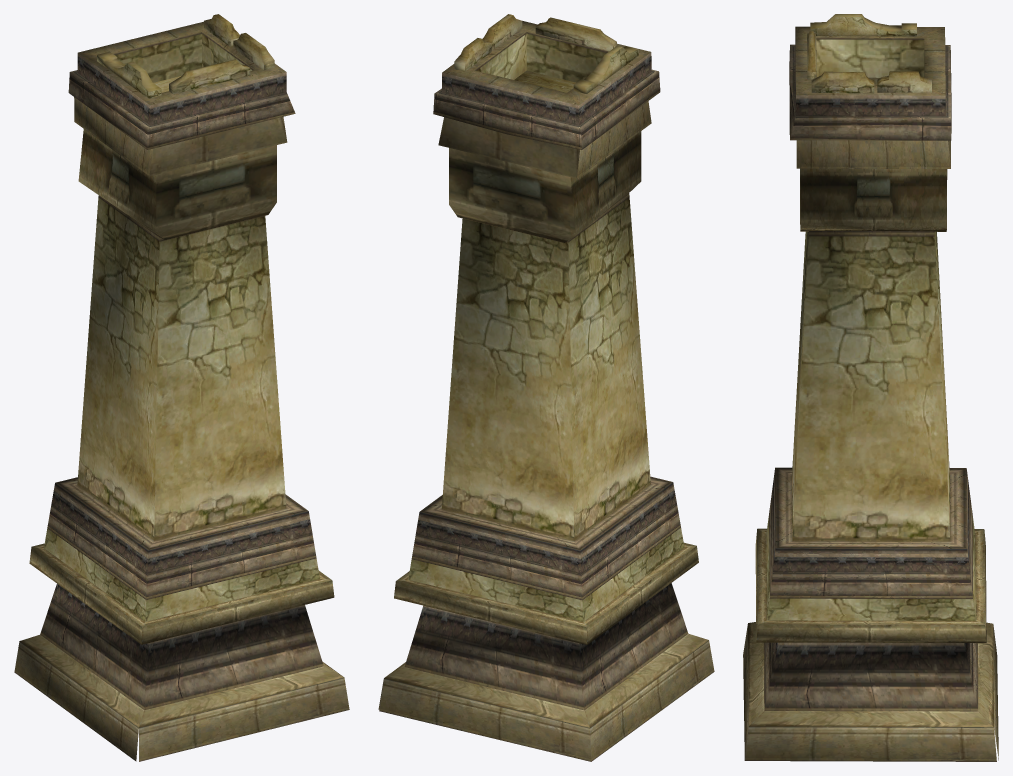
The model's file is S_Build_Wilderness013.FBX.
3 views of the same model, side by side, from view 1: azimuth 30°, elevation 25°; view 2: azimuth 150°, elevation 25°; view 3: azimuth 270°, elevation 25° (orthographic). The views are drawn at different scales.
Parts seen in each view (by area): view 1: S_Build_Wilderness013; view 2: S_Build_Wilderness013; view 3: S_Build_Wilderness013.
Boxes of the visible parts, left/top/right/bottom form: S_Build_Wilderness013: left=14, top=14, right=349, bottom=761; S_Build_Wilderness013: left=378, top=14, right=714, bottom=761; S_Build_Wilderness013: left=743, top=14, right=998, bottom=761.
Size of the model in its own units: 232 by 234 by 671.
